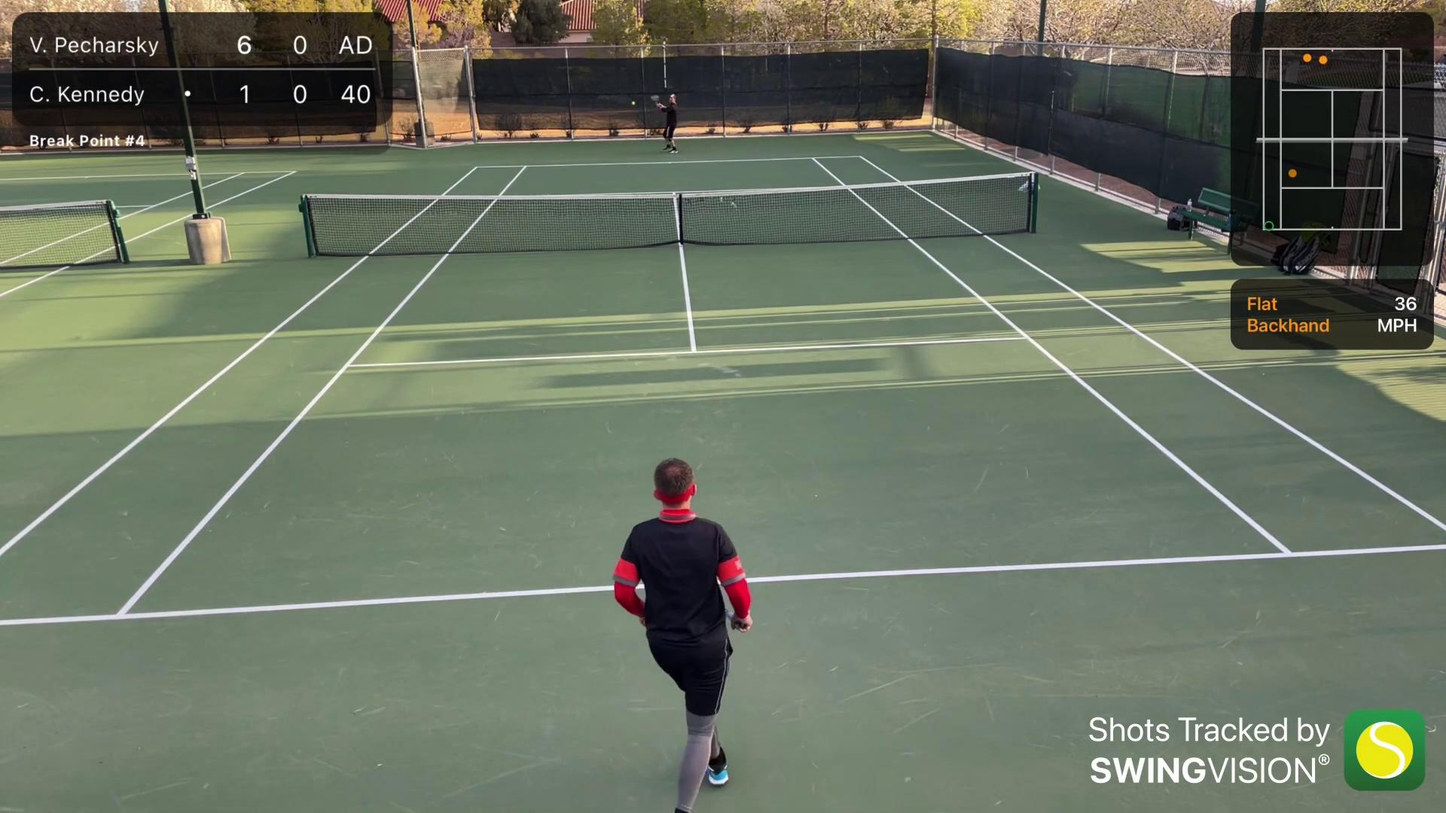ball: (630, 99, 637, 106)
